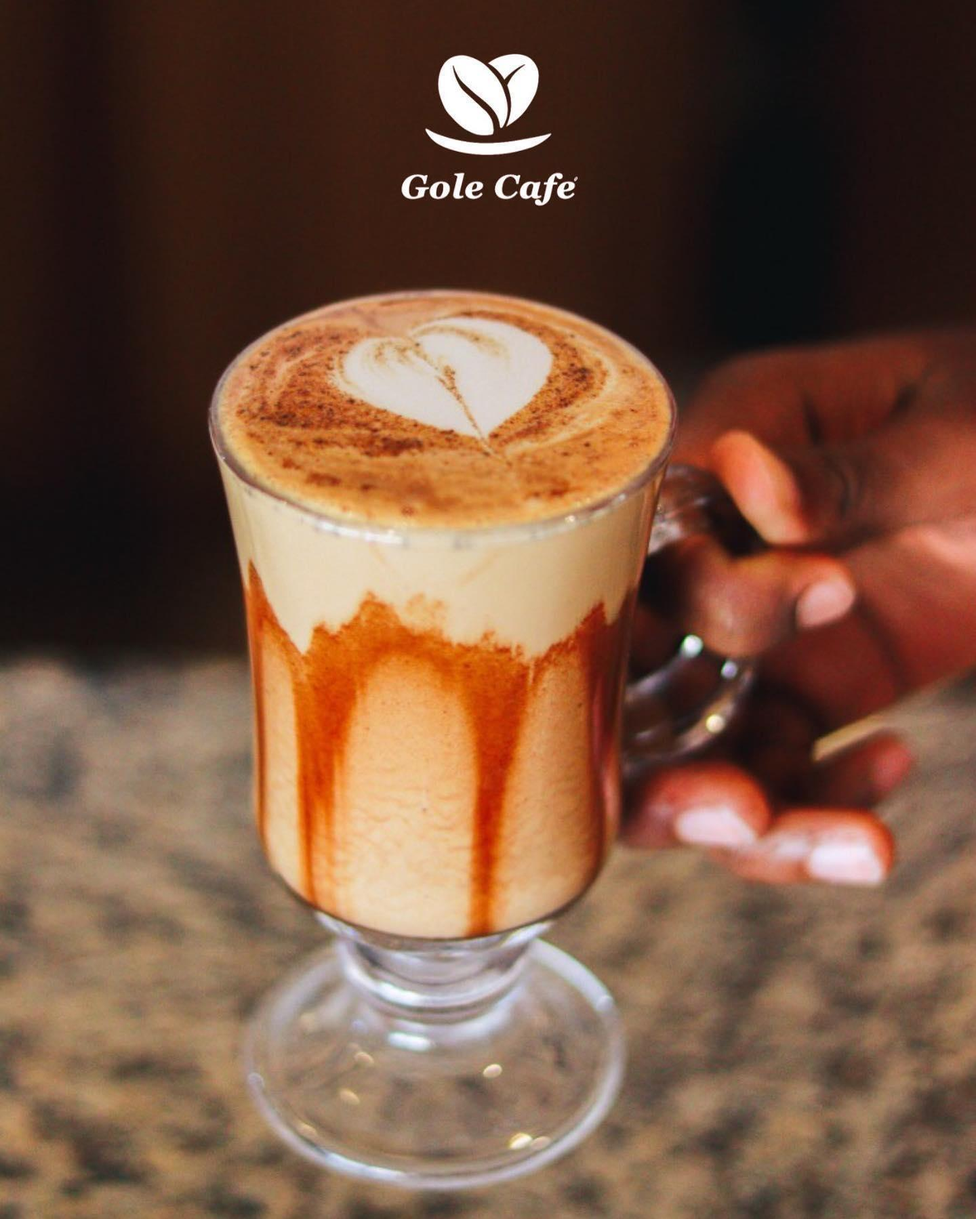glass-wine: (197, 274, 764, 1201)
